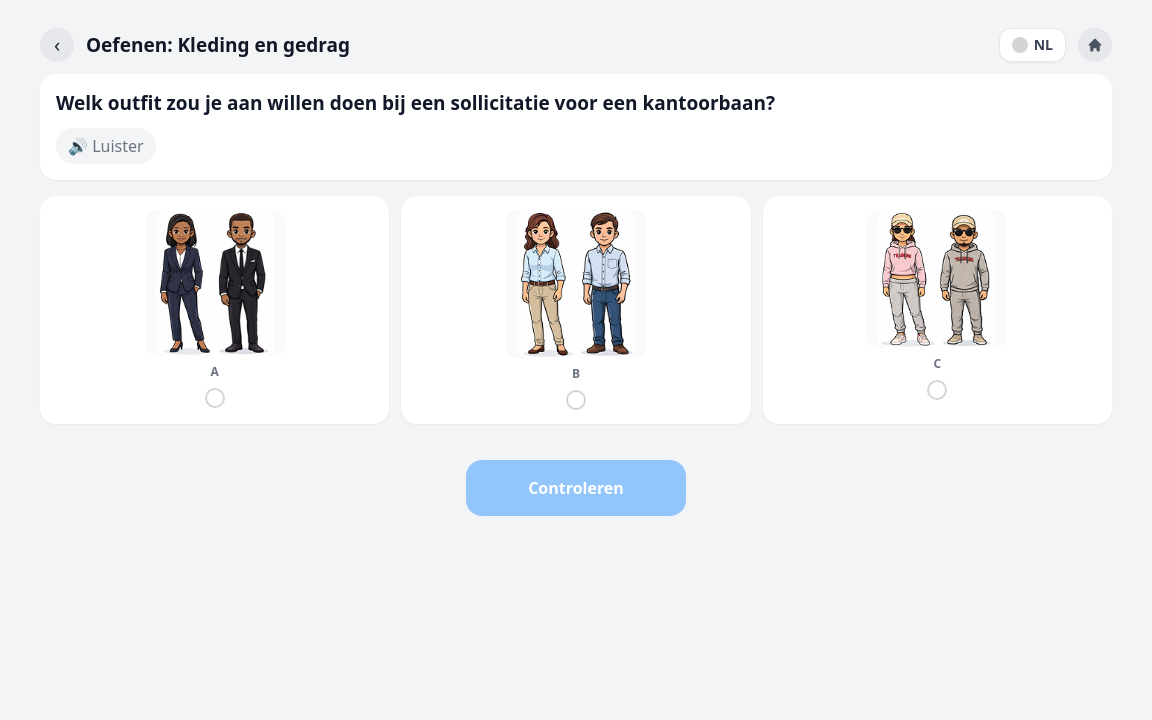
Test case: selecting outfit C (wrong) shows negative feedback
The image size is (1152, 720).
Click the button "C".
click(937, 310)  # box [763,196,1112,424]
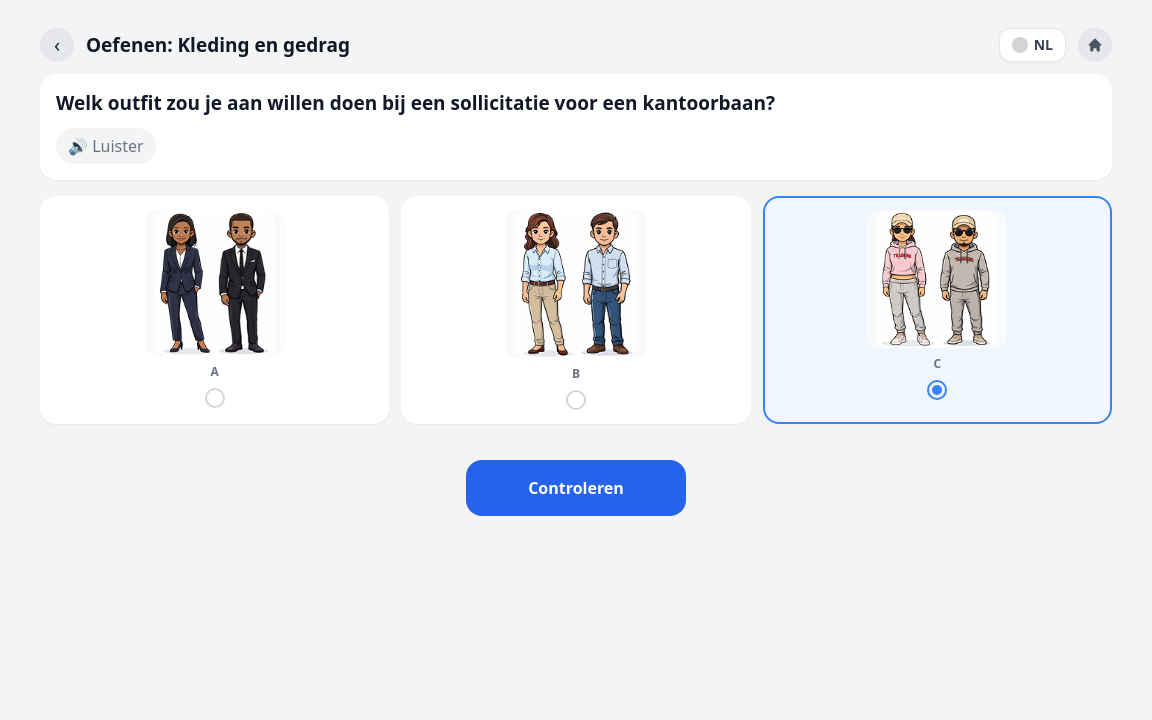
Click the button "Controleren".
click(576, 488)  # box [466,460,686,516]
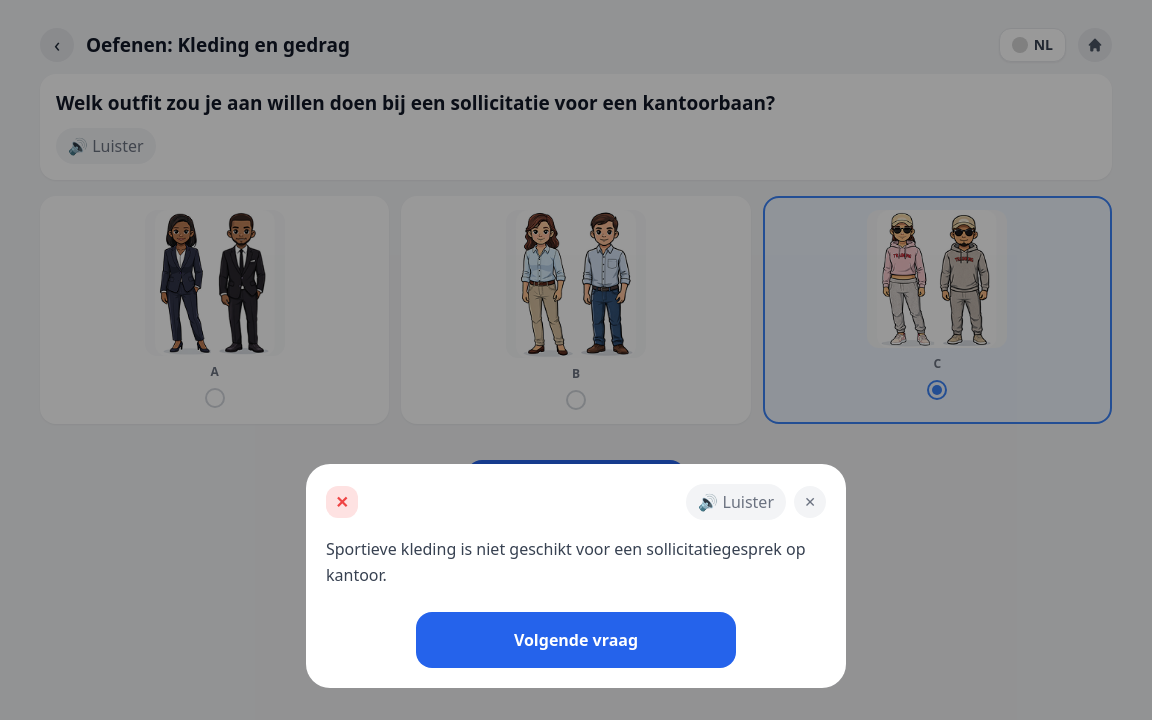
Expected: the text "niet geschikt" is shown, [326,538,806,586]
